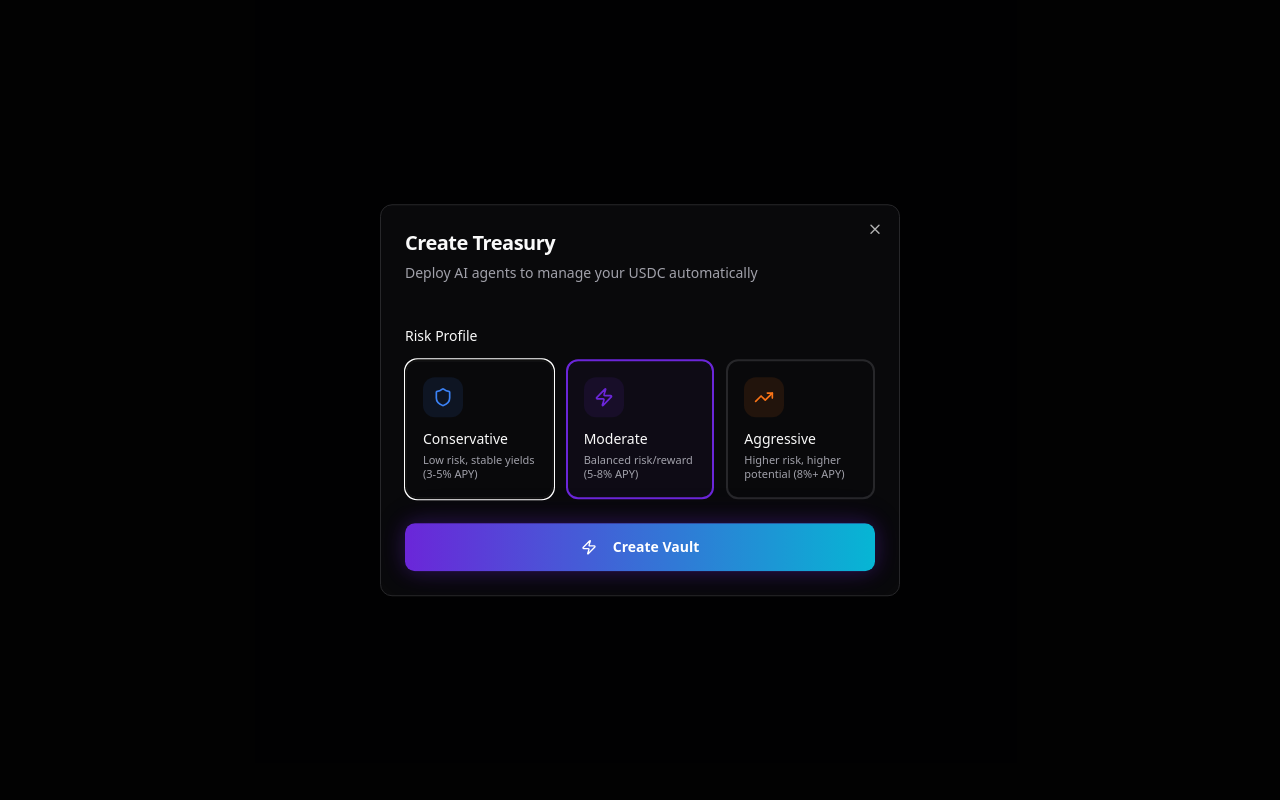
VaultForm › renders the success state after vault creation
This screenshot has width=1280, height=800.
Step 1. Click the button "Create Vault" → (640, 547), box [405, 523, 875, 571]
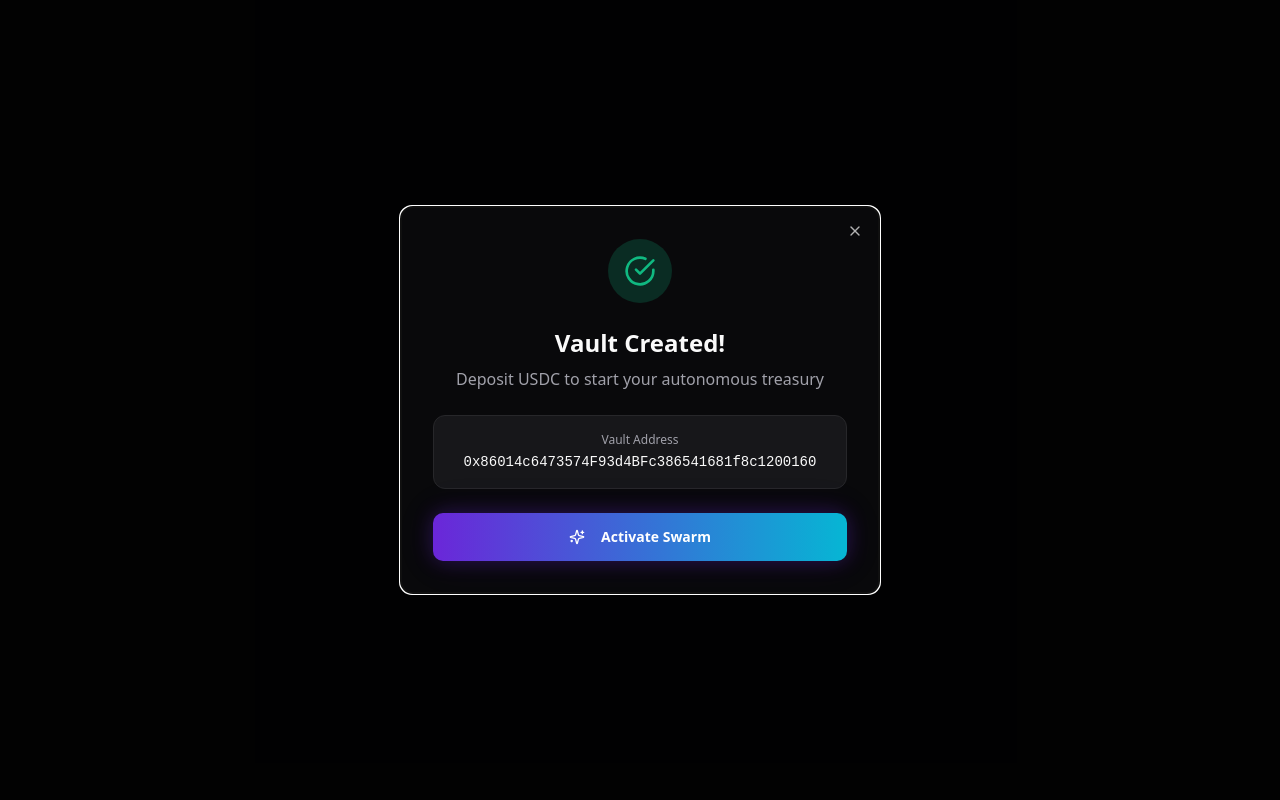
Check: the heading "Vault Created!" is shown, box [555, 326, 725, 359]
Check: the button "Activate Swarm" is shown, box [433, 513, 847, 561]
